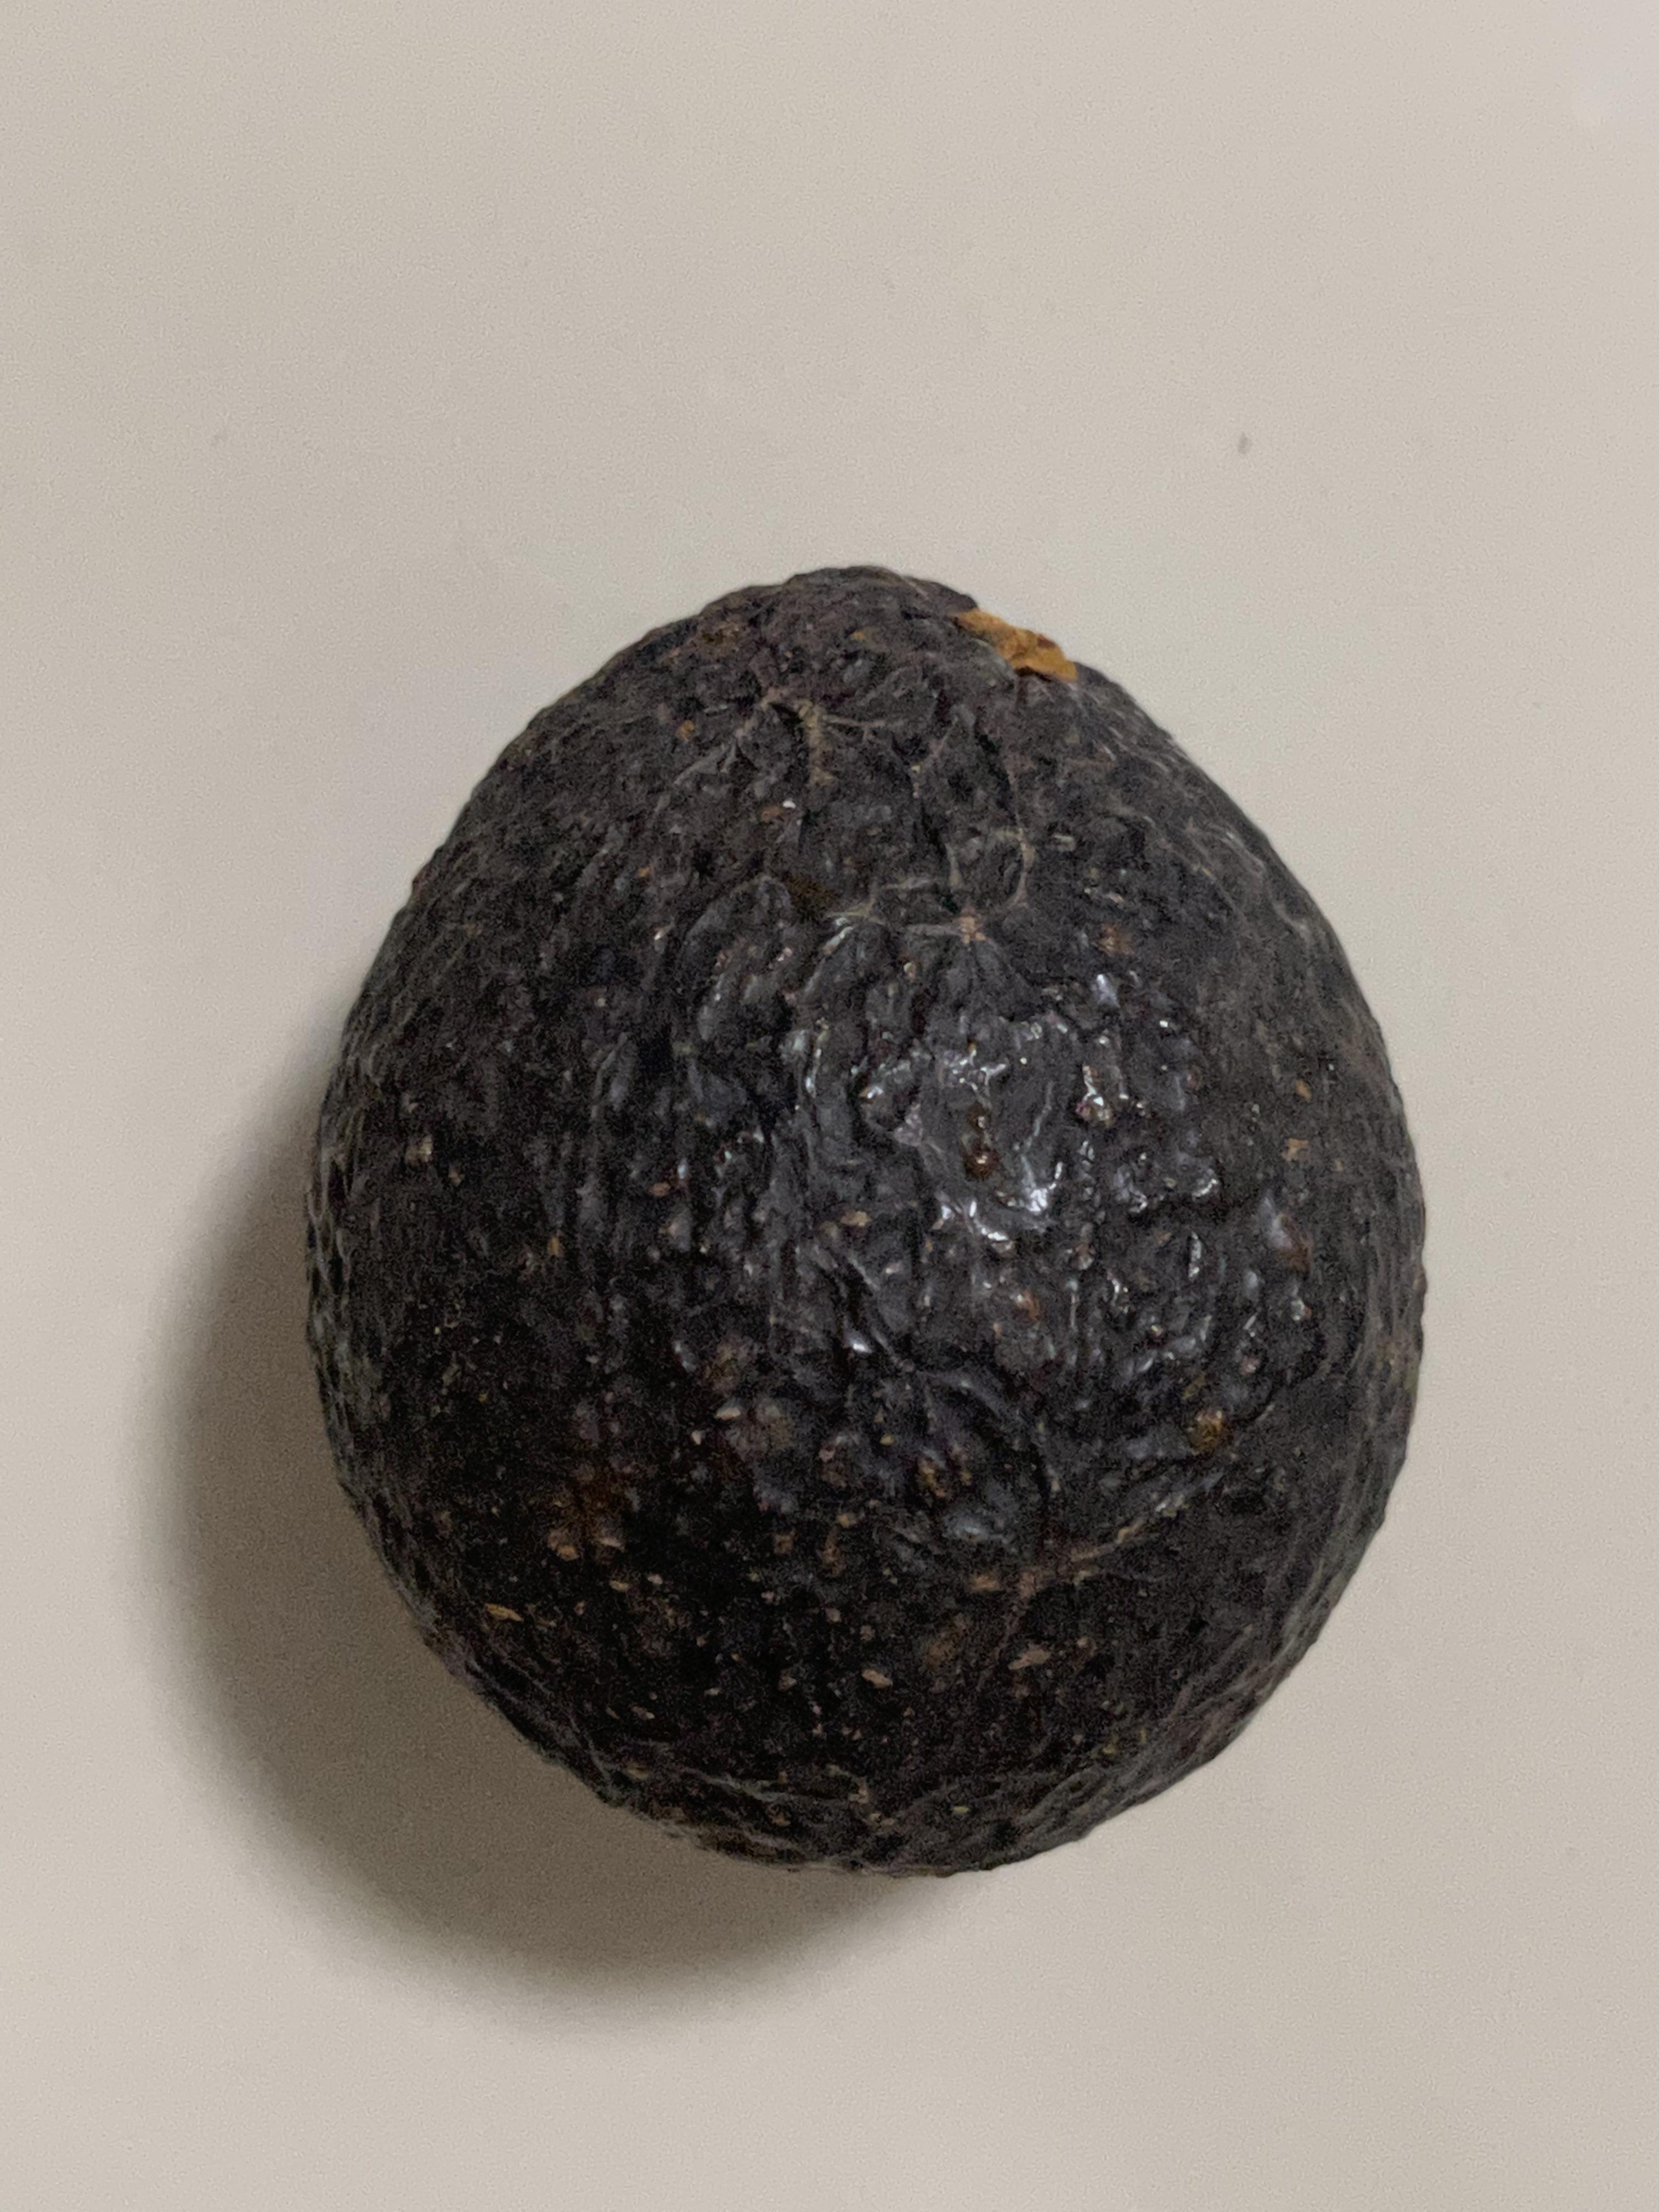Level2: (284, 543, 1446, 1895)
